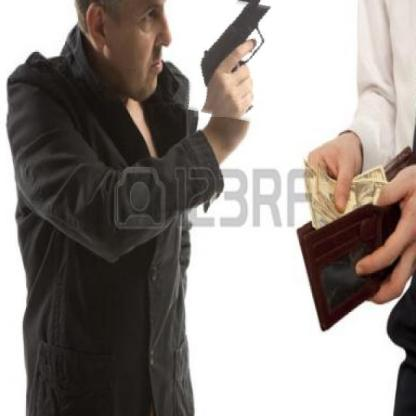handgun: (189, 0, 278, 120)
